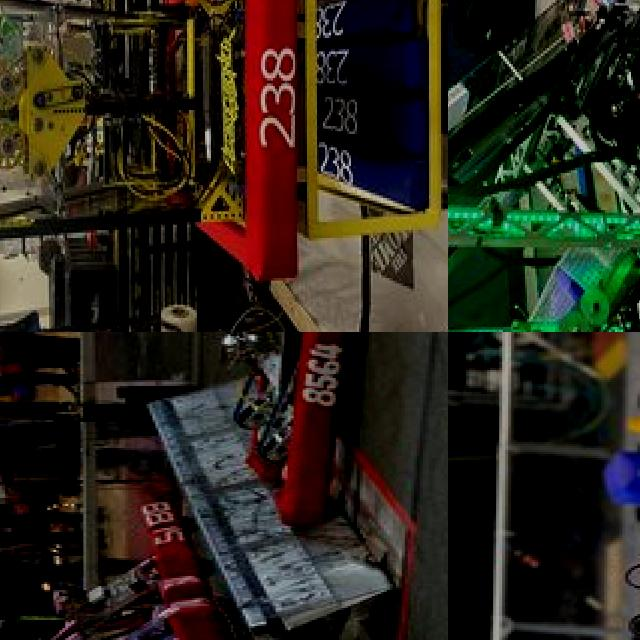FRC-Robots: (0, 0, 305, 332), (448, 0, 640, 332), (200, 332, 398, 515), (0, 480, 206, 640), (555, 332, 640, 640), (31, 580, 259, 640)
